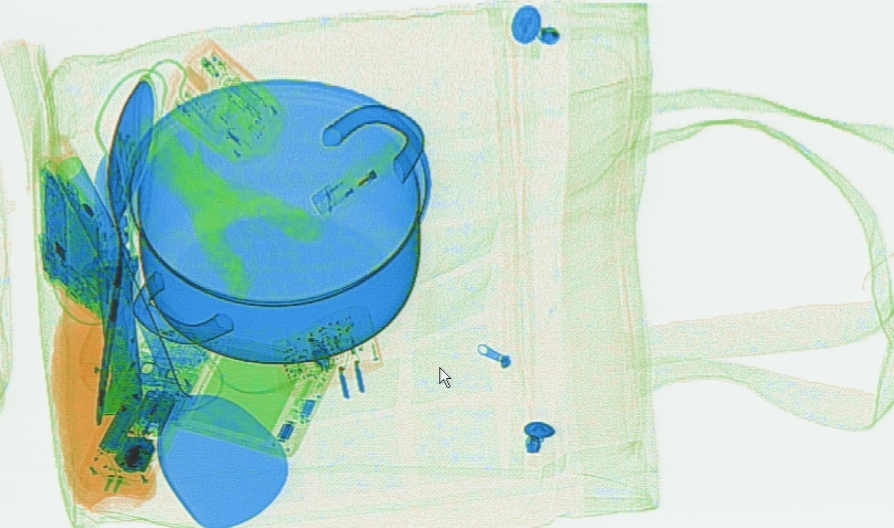knife: (88, 148, 144, 418)
lighter: (308, 129, 419, 215)
